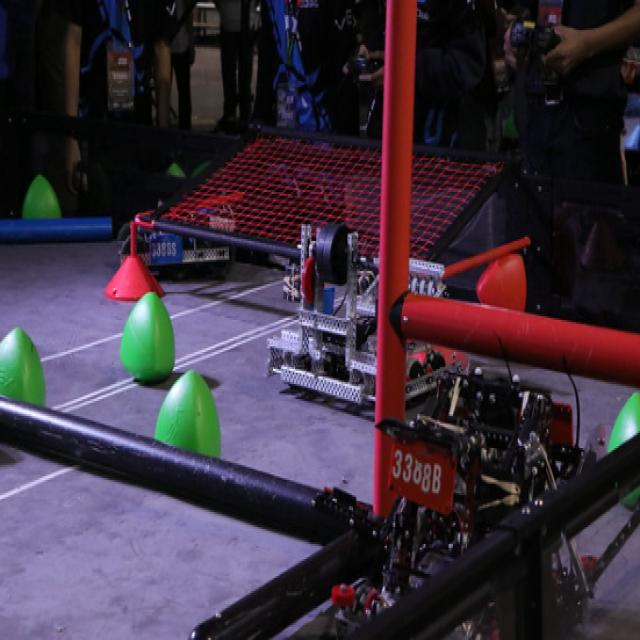License-Plates: (392, 437, 456, 514), (150, 237, 182, 266)
